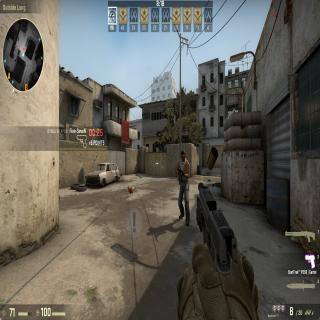T-Body: (175, 150, 192, 228)
T-Head: (180, 149, 186, 163)
